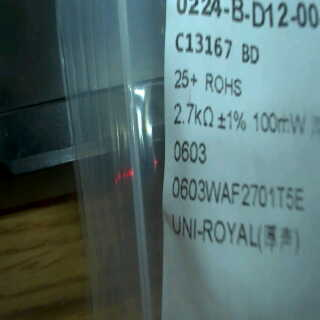2.7kR: (166, 97, 219, 136)
